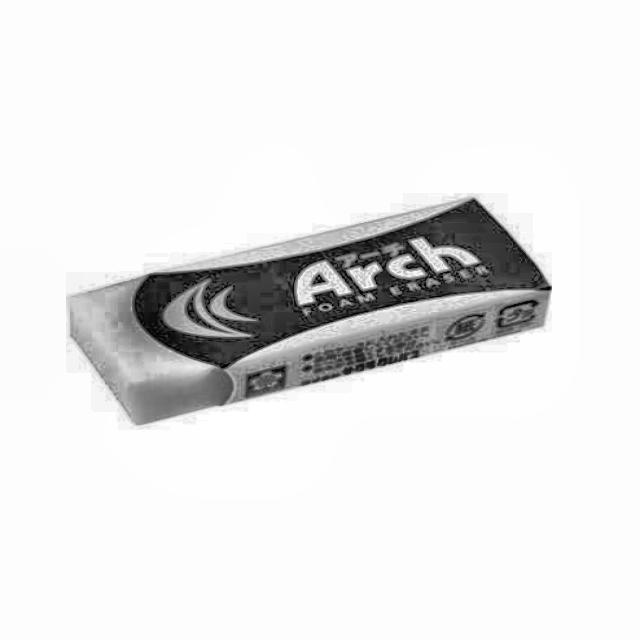eraser: (59, 193, 556, 433)
